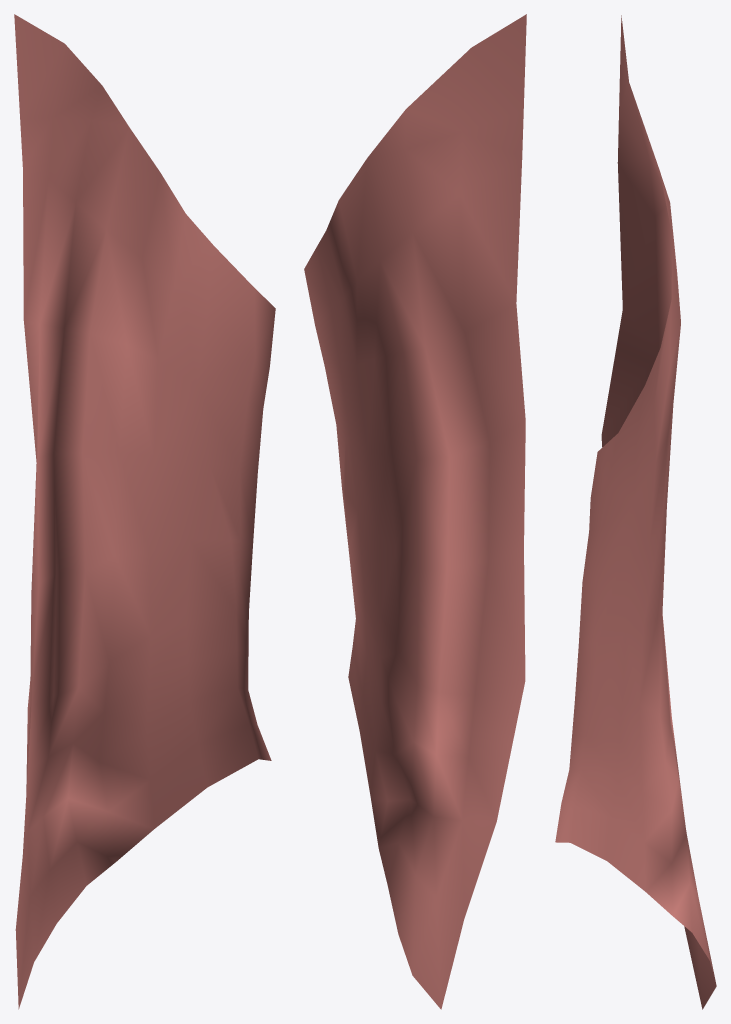
3 views of the same model, side by side, from view 1: azimuth 30°, elevation 25°; view 2: azimuth 150°, elevation 25°; view 3: azimuth 270°, elevation 25° (orthographic). The views are drawn at different scales.
Visible parts, largest first — view 1: ZA_41dd74ef063641cb; view 2: ZA_41dd74ef063641cb; view 3: ZA_41dd74ef063641cb.
Boxes of the visible parts, left/top/right/bottom form: ZA_41dd74ef063641cb: left=14, top=14, right=275, bottom=1009; ZA_41dd74ef063641cb: left=304, top=14, right=526, bottom=1009; ZA_41dd74ef063641cb: left=555, top=15, right=716, bottom=1009.
Size of the model in its own units: 0.0456 by 0.182 by 0.0273.
